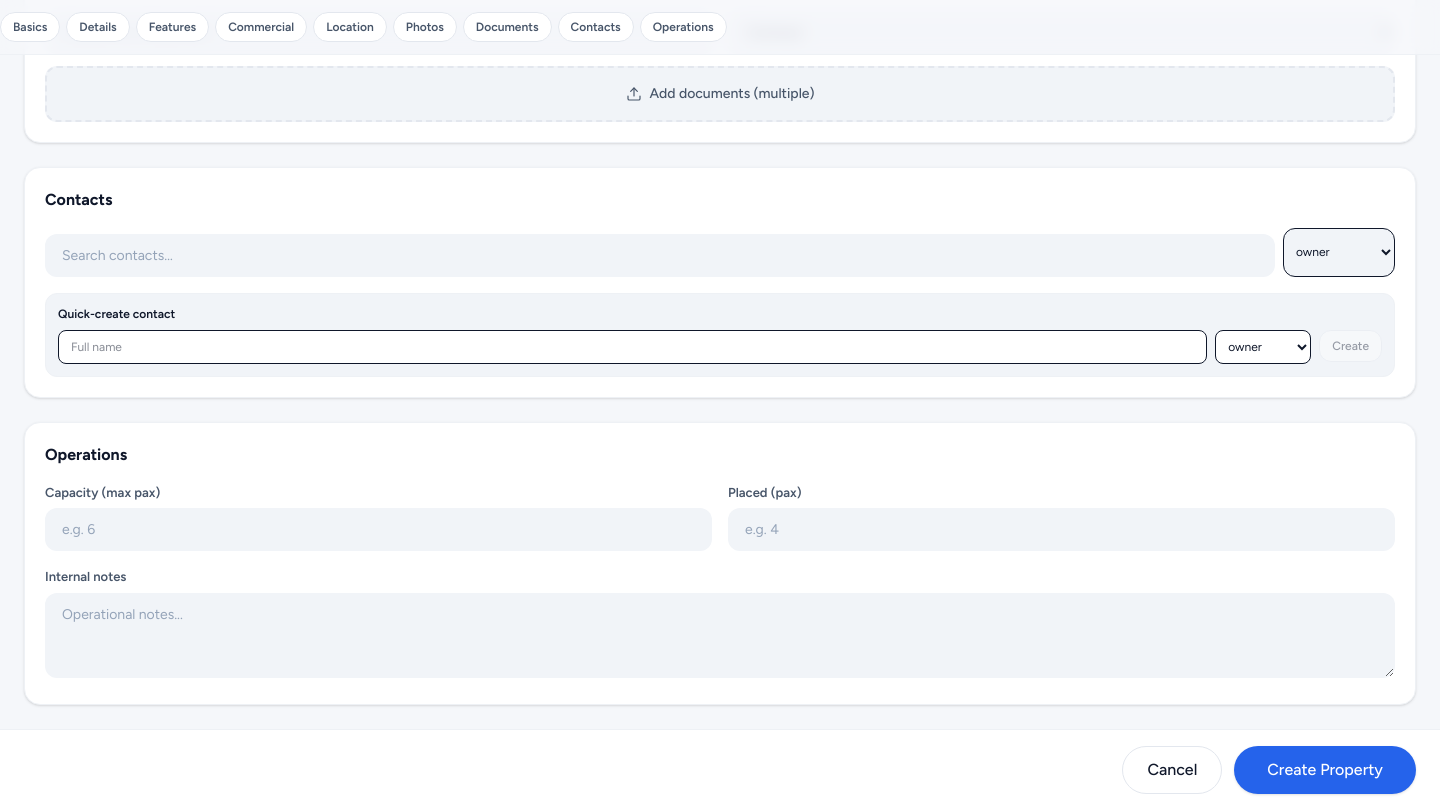
Test case: PropertyEditor › shows validation for required name
(page scrolled)
Click the button "Create Property": point(1325, 770) [1234,746,1416,794]
(page scrolled)
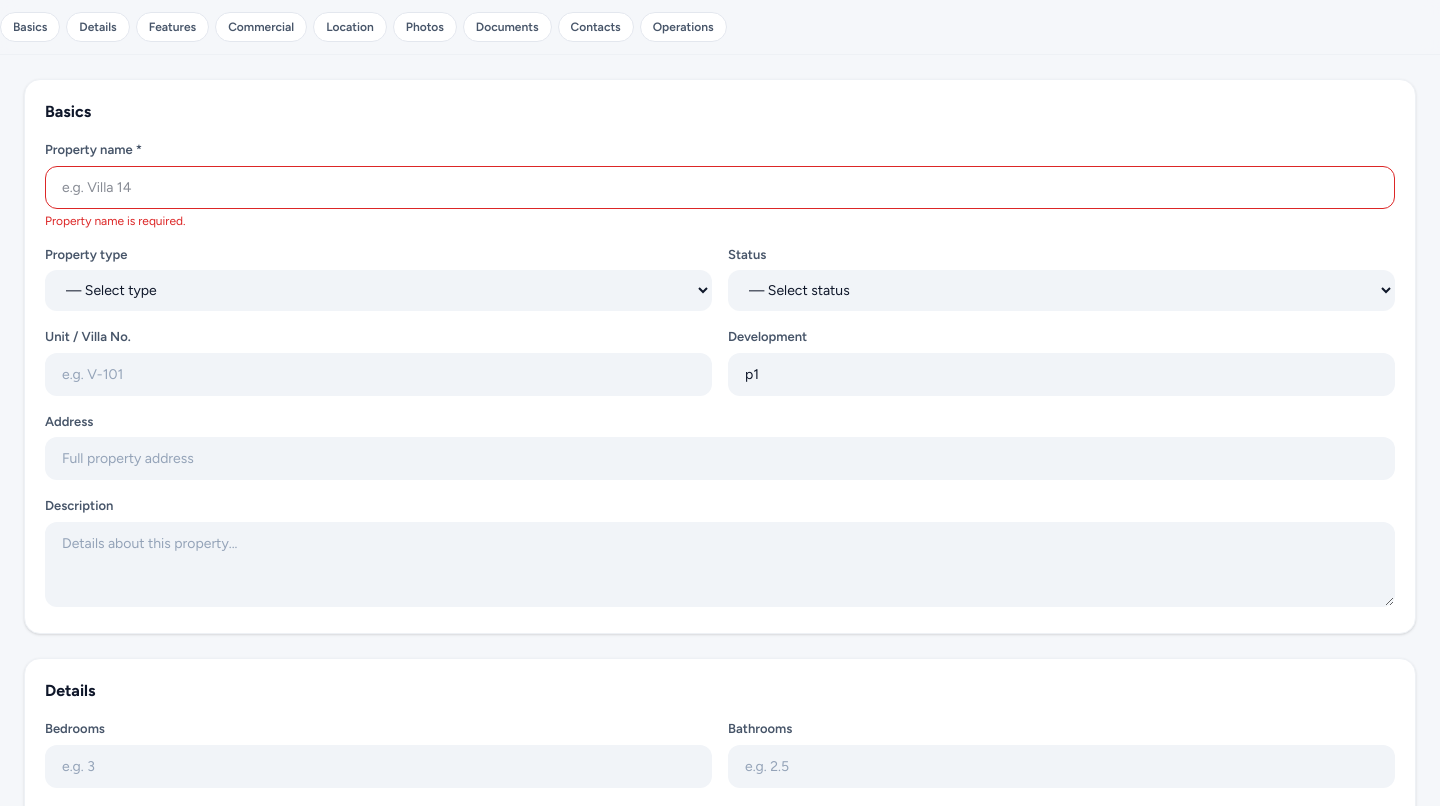
Now the text "Property name is required." is shown, box [45,214,186,228]
